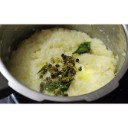venpongal: (14, 30, 109, 91)
